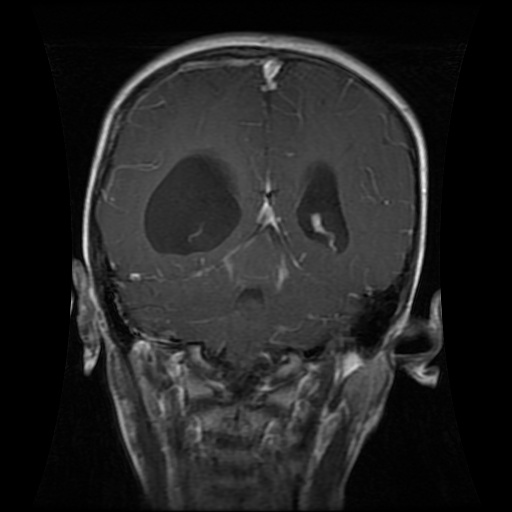glioma: (140, 148, 292, 293)
